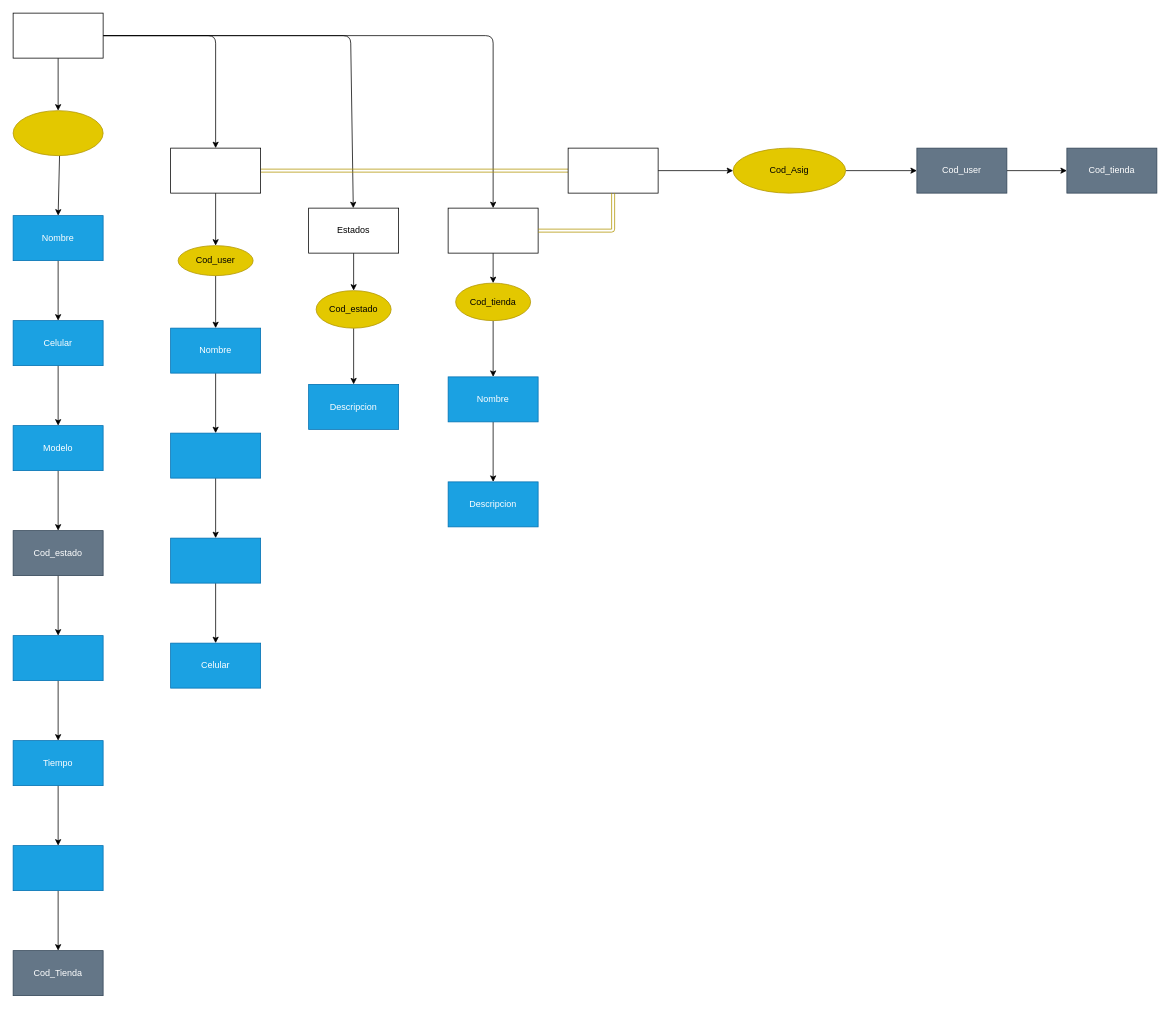
The diagram is 1170 pixels wide and 1009 high, and some of its shapes have lost their labels. The centre of each missing label's shape, as x and y in pixels:
Asignacion Tienda: (612,170)
Contraseña: (215,560)
Liberaciones: (57,35)
Login: (215,455)
Observaciones: (57,868)
Precio: (57,658)
Serie: (57,133)
Tienda: (492,230)
Usuarios: (215,170)
